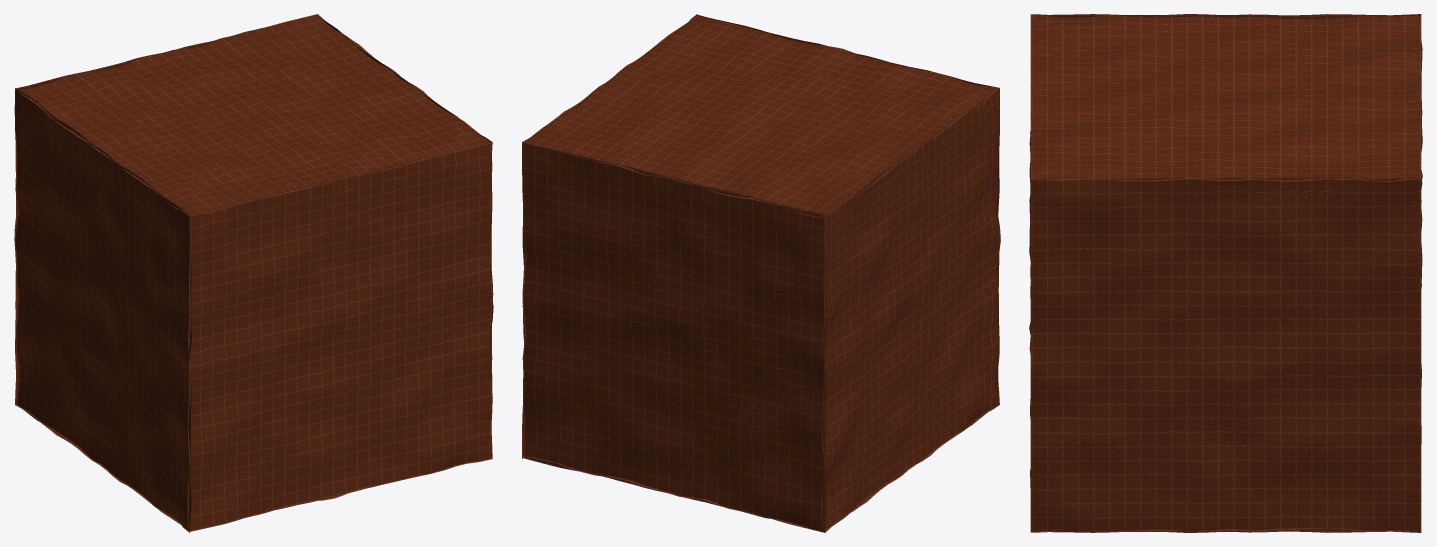
File: deformed_woodobx.fbx
3 renders of one model, left to right at view 1: azimuth 30°, elevation 25°; view 2: azimuth 150°, elevation 25°; view 3: azimuth 270°, elevation 25°, orthographic. The views are drawn at different scales.
Visible parts, largest first — view 1: deformed_woodbox; view 2: deformed_woodbox; view 3: deformed_woodbox.
Boxes of the visible parts, x1,y1,x2,y2 form: deformed_woodbox: (14,14,493,532); deformed_woodbox: (522,14,1000,532); deformed_woodbox: (1029,14,1422,532).
Bounding box in the file's own units: 101 × 101 × 101.
